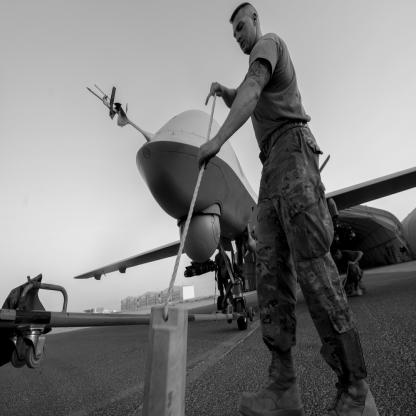MQ9: (74, 85, 416, 331)
